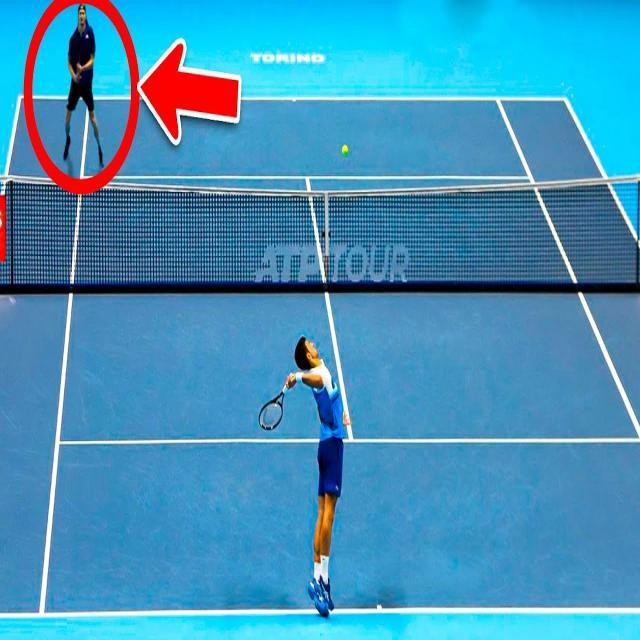court: (0, 237, 640, 631)
net: (0, 170, 640, 288)
player: (252, 327, 360, 625)
